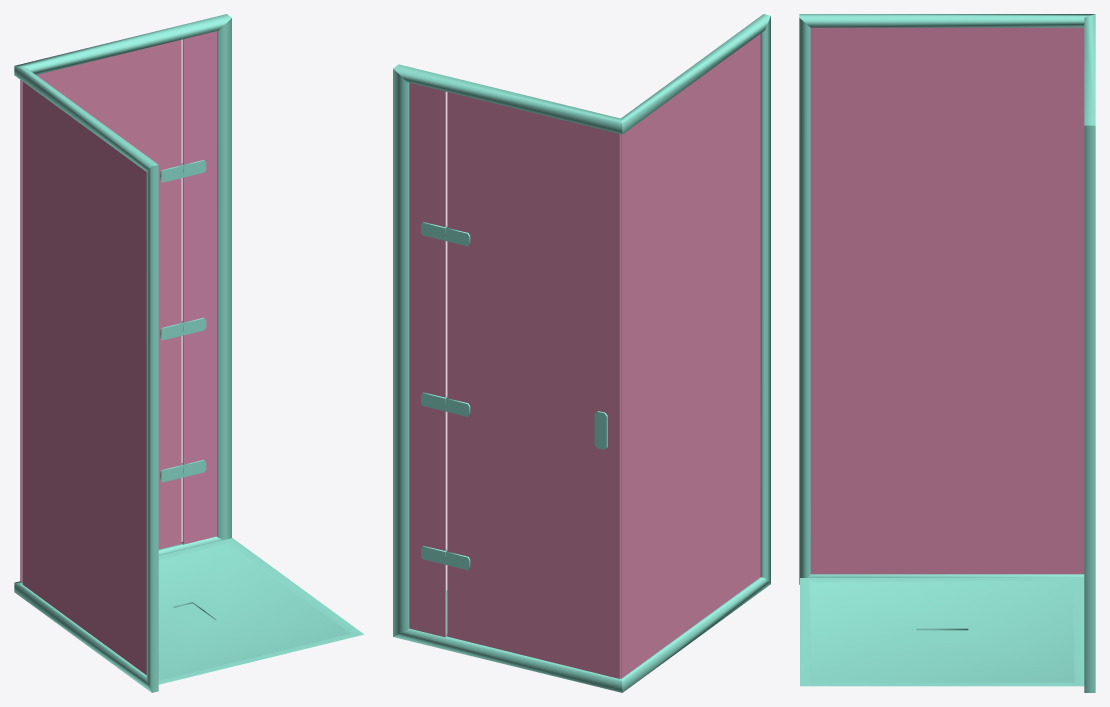
The model's file is shower.FBX.
3 renders of one model, left to right at view 1: azimuth 30°, elevation 25°; view 2: azimuth 150°, elevation 25°; view 3: azimuth 270°, elevation 25°, orthographic. The views are drawn at different scales.
Parts seen in each view (by area): view 1: glass_big, shower, glass_door, glass_small; view 2: glass_door, glass_big, shower, glass_small; view 3: glass_big, shower.
Part boxes in pixels (x1,y1,x2,y2): glass_big: [22, 81, 146, 674]; shower: [14, 14, 363, 692]; glass_door: [20, 39, 181, 582]; glass_small: [182, 31, 216, 544]; glass_door: [447, 92, 620, 678]; glass_big: [621, 34, 760, 678]; shower: [393, 14, 770, 692]; glass_small: [409, 82, 446, 637]; glass_big: [810, 27, 1084, 574]; shower: [799, 14, 1095, 692].
Size of the model in its own units: 93.92 by 105 by 222.
